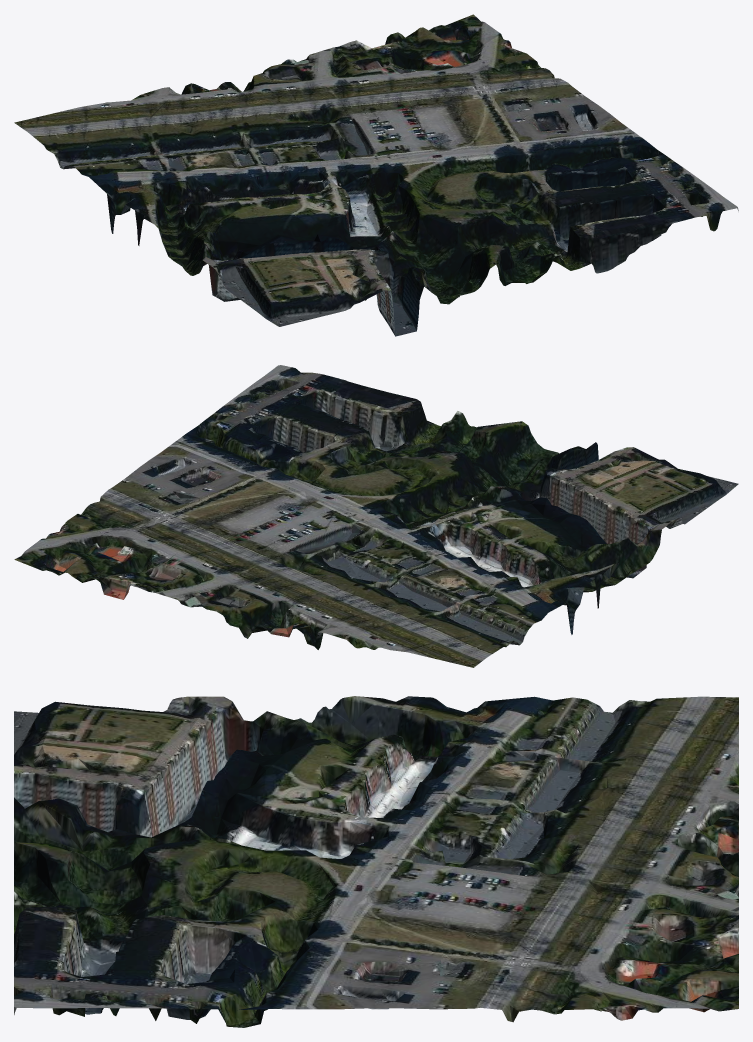
File: map_13_2044_3449.dae
The picture shows the model from 3 angles, top to bottom: view 1: azimuth 30°, elevation 25°; view 2: azimuth 150°, elevation 25°; view 3: azimuth 270°, elevation 25°; orthographic projection. The views are drawn at different scales.
Parts seen in each view (by area): view 1: Ter0; view 2: Ter0; view 3: Ter0.
Boxes of the visible parts, box(x1,y1,x2,y2) form: Ter0: box(14, 14, 738, 336); Ter0: box(14, 365, 738, 667); Ter0: box(14, 696, 738, 1027).
Size of the model in its own units: 256 by 256 by 26.95.
Materials: 3 (3 with a texture image).
